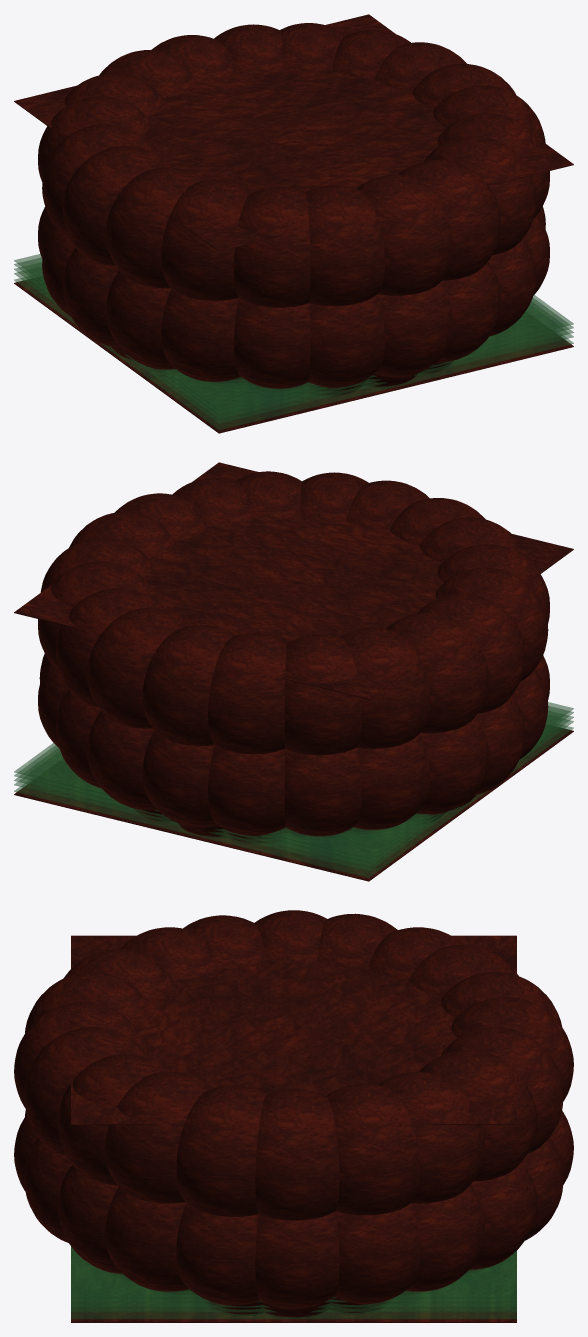
Rendered from Stomach_Inside_small.glb.
The picture shows the model from 3 angles, top to bottom: view 1: azimuth 30°, elevation 25°; view 2: azimuth 150°, elevation 25°; view 3: azimuth 270°, elevation 25°; orthographic projection. The views are drawn at different scales.
Visible parts, largest first — view 1: Cube copy (×2), Stomach4_3, Stomach4_12, Stomach4_13, Stomach4_2, Stomach4_11, Cube, Stomach2_12, Stomach4_4, Stomach4_1, Stomach2_3, Stomach2_2 (+24 smaller); view 2: Cube copy (×2), Stomach4_9, Stomach4_19, Stomach4_18, Stomach4_20, Stomach4_10, Stomach4_8, Cube, Stomach2_19, Stomach2_9, Stomach2_10, Cube copy copy (+24 smaller); view 3: Cube copy (×2), Stomach4_6, Stomach4_16, Stomach4_15, Stomach4_5, Stomach4_7, Stomach2_6, Stomach2_16, Stomach2_15, Stomach4_17, Cube copy copy, Stomach2_5 (+28 smaller).
Boxes of the visible parts, <box> form: Cube copy (×2): <box>14,14,573,410</box>; Stomach4_3: <box>305,185,384,306</box>; Stomach4_12: <box>234,186,310,307</box>; Stomach4_13: <box>356,174,453,295</box>; Stomach4_2: <box>161,180,252,300</box>; Stomach4_11: <box>106,167,205,288</box>; Cube: <box>14,280,573,433</box>; Stomach2_12: <box>234,298,310,389</box>; Stomach4_4: <box>398,159,501,280</box>; Stomach4_1: <box>62,146,172,266</box>; Stomach2_3: <box>308,294,384,387</box>; Stomach2_2: <box>161,288,240,382</box>; Cube copy (×2): <box>14,462,573,858</box>; Stomach4_9: <box>208,633,287,754</box>; Stomach4_19: <box>284,634,361,755</box>; Stomach4_18: <box>142,625,235,745</box>; Stomach4_20: <box>386,612,489,733</box>; Stomach4_10: <box>340,628,430,748</box>; Stomach4_8: <box>87,607,192,728</box>; Cube: <box>14,728,573,881</box>; Stomach2_19: <box>284,748,361,836</box>; Stomach2_9: <box>208,745,285,835</box>; Stomach2_10: <box>353,734,430,830</box>; Cube copy copy: <box>14,706,573,862</box>; Cube copy (×2): <box>71,935,516,1298</box>; Stomach4_6: <box>255,1089,339,1220</box>; Stomach4_16: <box>325,1083,420,1215</box>; Stomach4_15: <box>176,1085,267,1216</box>; Stomach4_5: <box>105,1071,213,1203</box>; Stomach4_7: <box>378,1071,484,1203</box>; Stomach2_6: <box>255,1211,339,1309</box>; Stomach2_16: <box>334,1203,420,1304</box>; Stomach2_15: <box>176,1202,259,1305</box>; Stomach4_17: <box>418,1050,537,1181</box>; Cube copy copy: <box>71,1247,516,1302</box>; Stomach2_5: <box>105,1187,189,1292</box>.
Bounding box in the file's own units: 6.28 × 2.9 × 6.28.
Materials: 87 (87 with a texture image).
